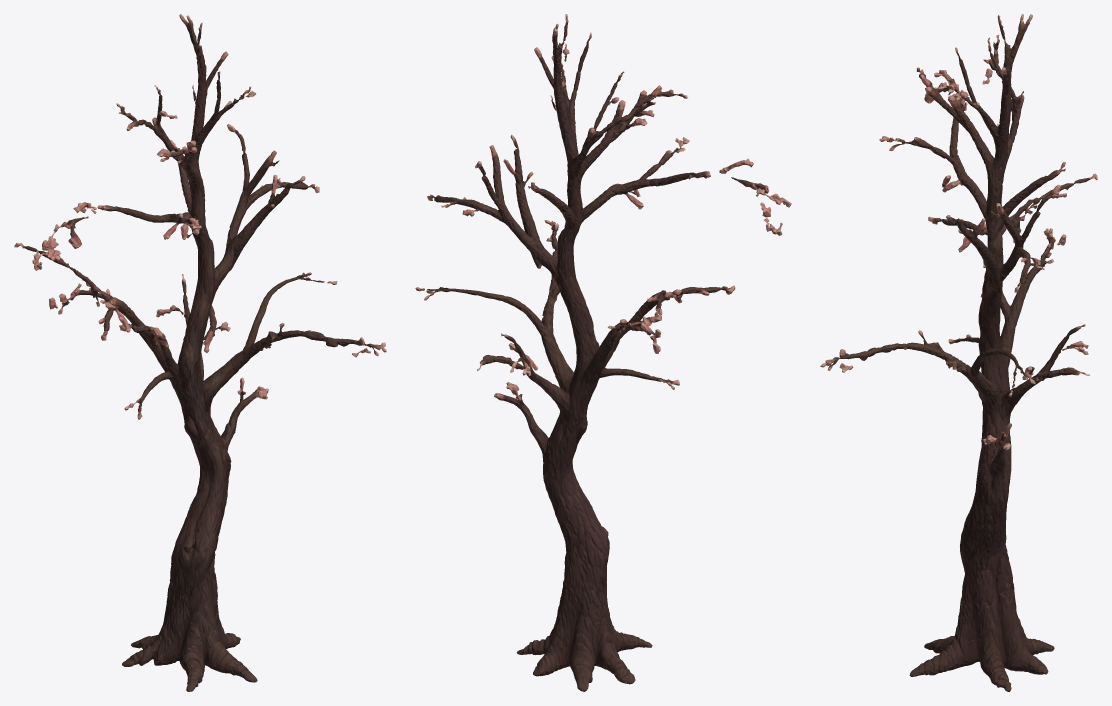
Rendered from source.glb.
The picture shows the model from 3 angles, left to right: view 1: azimuth 30°, elevation 25°; view 2: azimuth 150°, elevation 25°; view 3: azimuth 270°, elevation 25°; orthographic projection. The views are drawn at different scales.
Visible parts, largest first — view 1: model; view 2: model; view 3: model.
Part boxes in pixels (bbox=[...]): model: bbox=[14, 14, 386, 691]; model: bbox=[415, 14, 791, 691]; model: bbox=[820, 14, 1097, 691].
Bounding box in the file's own units: 1.03 × 1.88 × 0.7217.
1 material, 1 textured.
